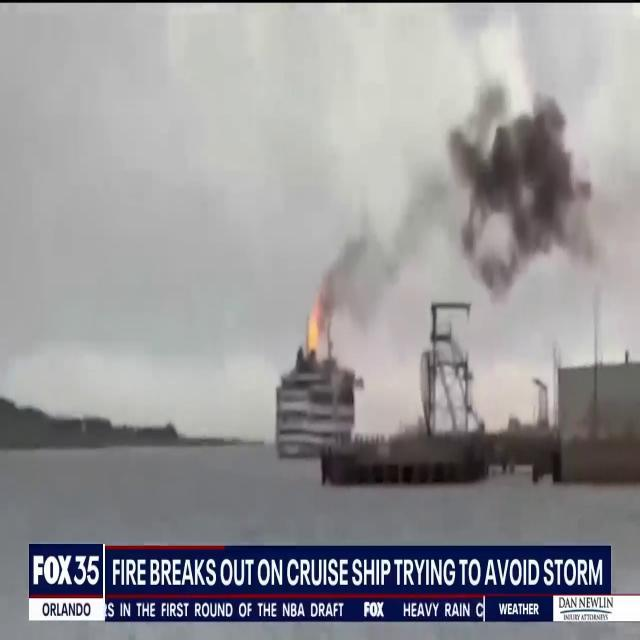Fire: (303, 297, 325, 364)
Smoke: (312, 46, 602, 340)
